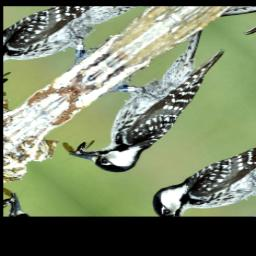Woodpecker: (49, 27, 256, 186)
